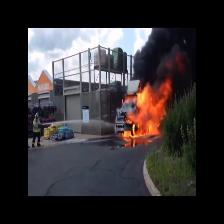fire: (131, 87, 169, 137)
smoke: (152, 27, 194, 81)
